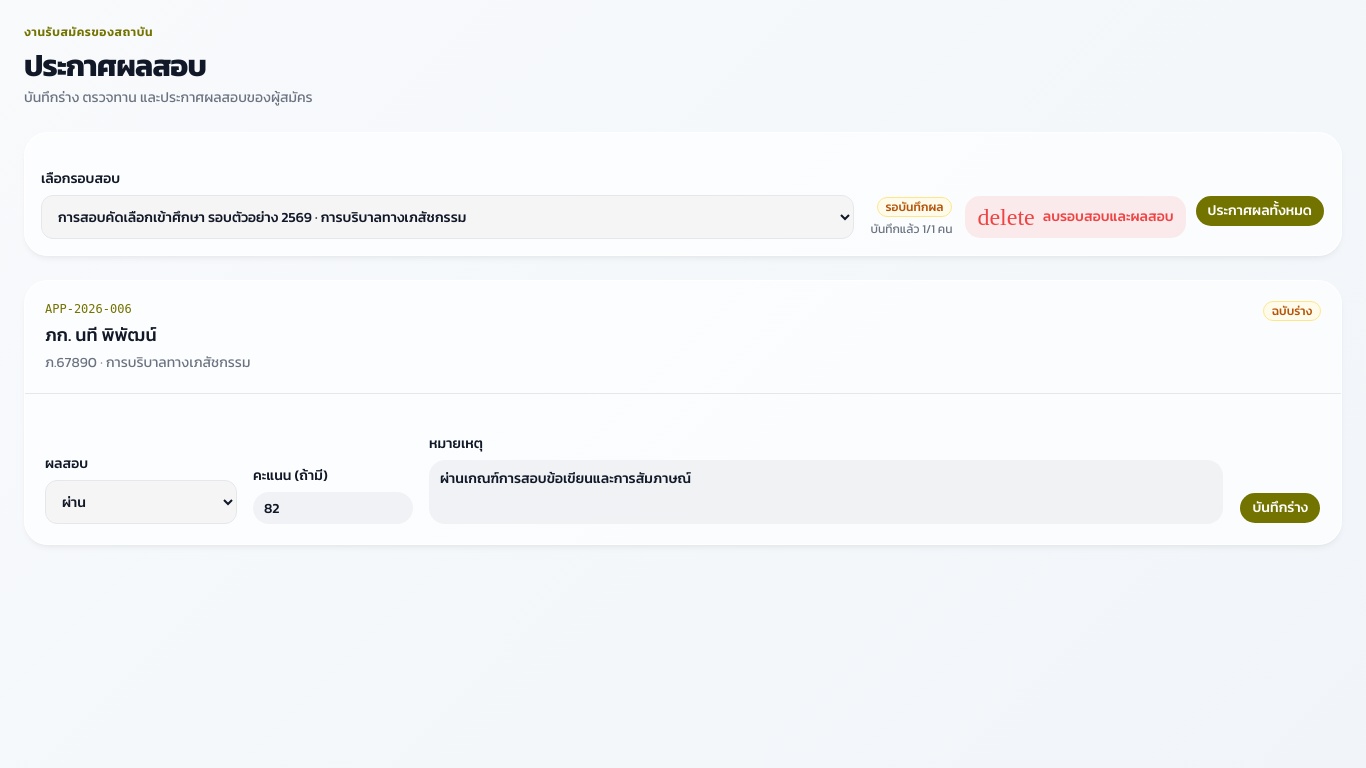
Test case: Institution admission exam delete actions › deletes the selected round and all results from the results page
The width and height of the screenshot is (1366, 768).
Expected: the heading "ประกาศผลสอบ" is shown, x1=24 y1=43 x2=206 y2=88
Click the button "ลบรอบสอบและผลสอบ". click: (1075, 217)
box: x1=964 y1=195 x2=1186 y2=239
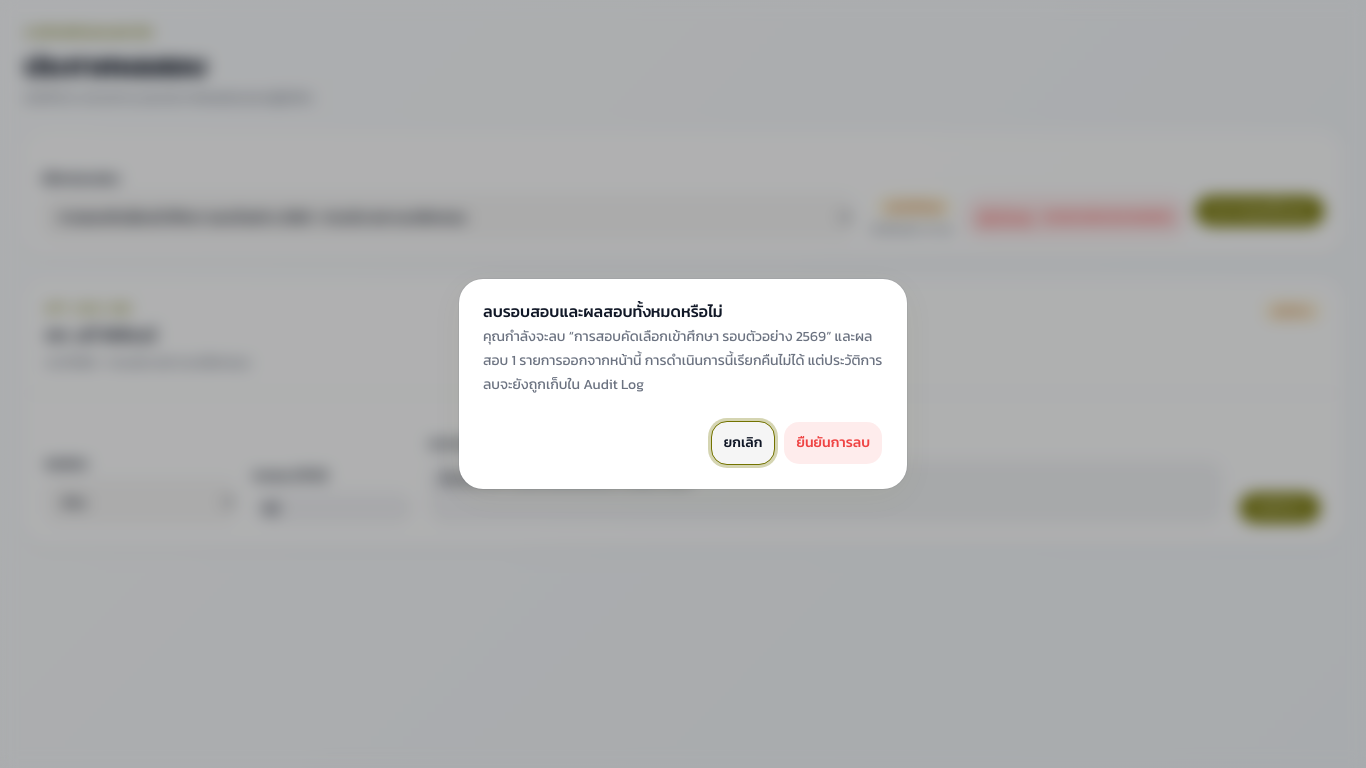
Expected: the heading "ลบรอบสอบและผลสอบทั้งหมดหรือไม่" is shown, x1=483 y1=299 x2=723 y2=323
Expected: the text "ผลสอบ 1 รายการ" is shown, x1=483 y1=325 x2=883 y2=397
Click the button "ยืนยันการลบ". click: (833, 443)
box: x1=783 y1=421 x2=883 y2=465
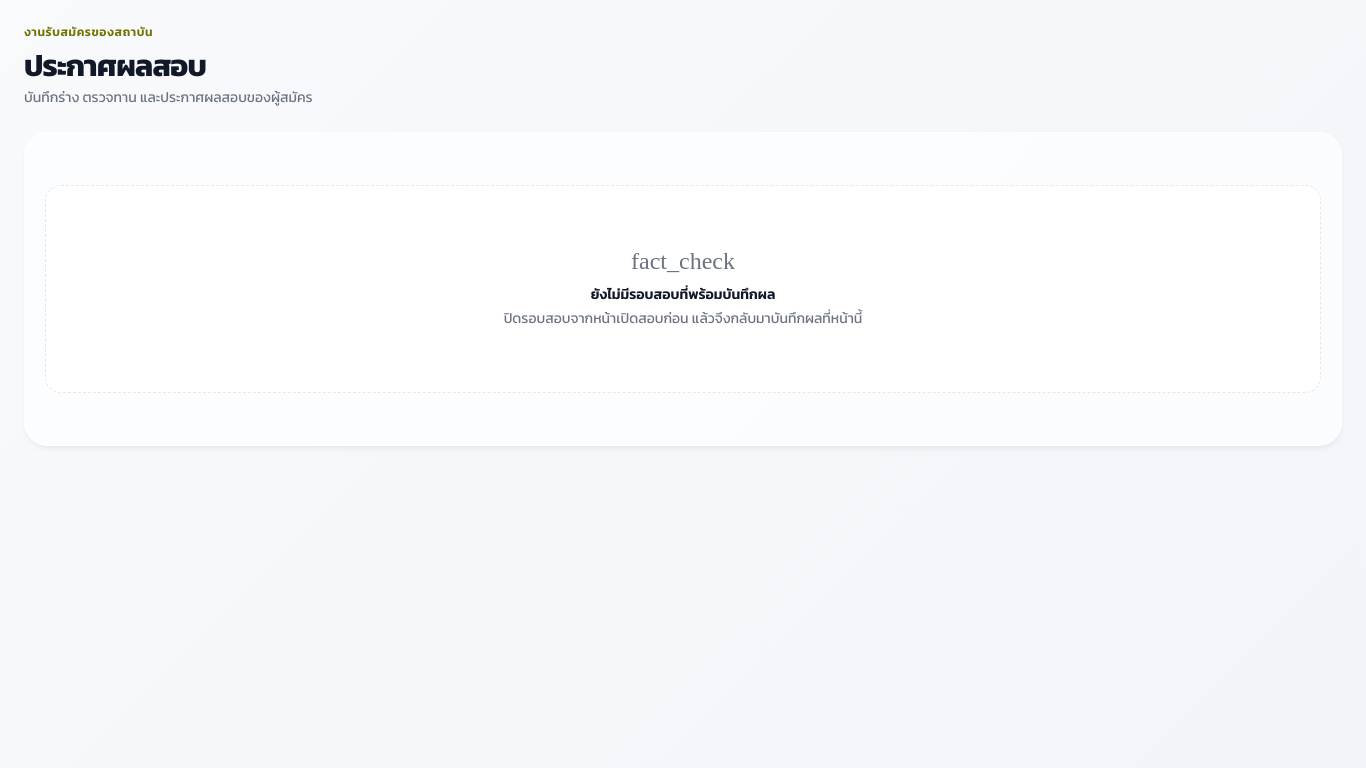
Expected: the heading "ยังไม่มีรอบสอบที่พร้อมบันทึกผล" is shown, x1=591 y1=285 x2=775 y2=305
Expected: the text "การสอบคัดเลือกเข้าศึกษา รอบตัวอย่าง 2569" is gone
